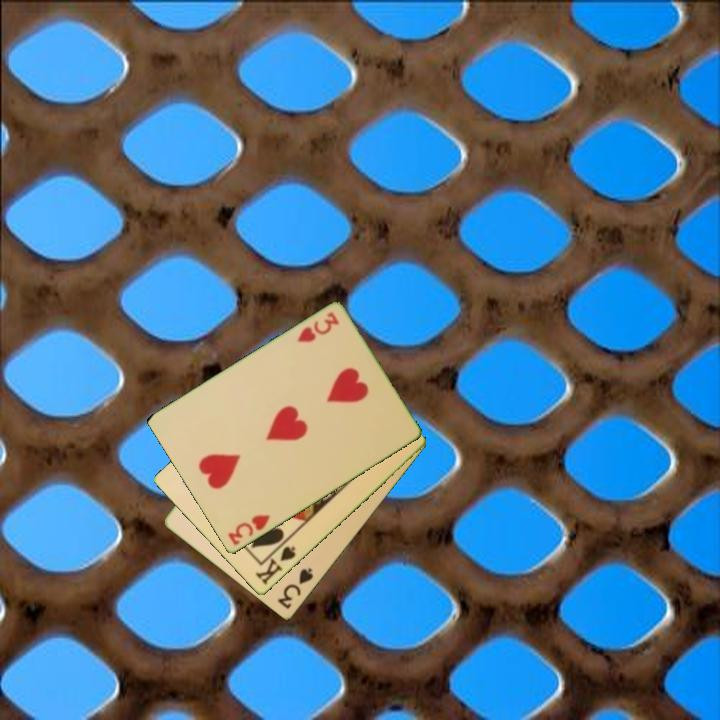3h: (224, 511, 273, 549), (294, 309, 342, 346)
3s: (274, 564, 316, 612)
Ks: (252, 543, 299, 588)
